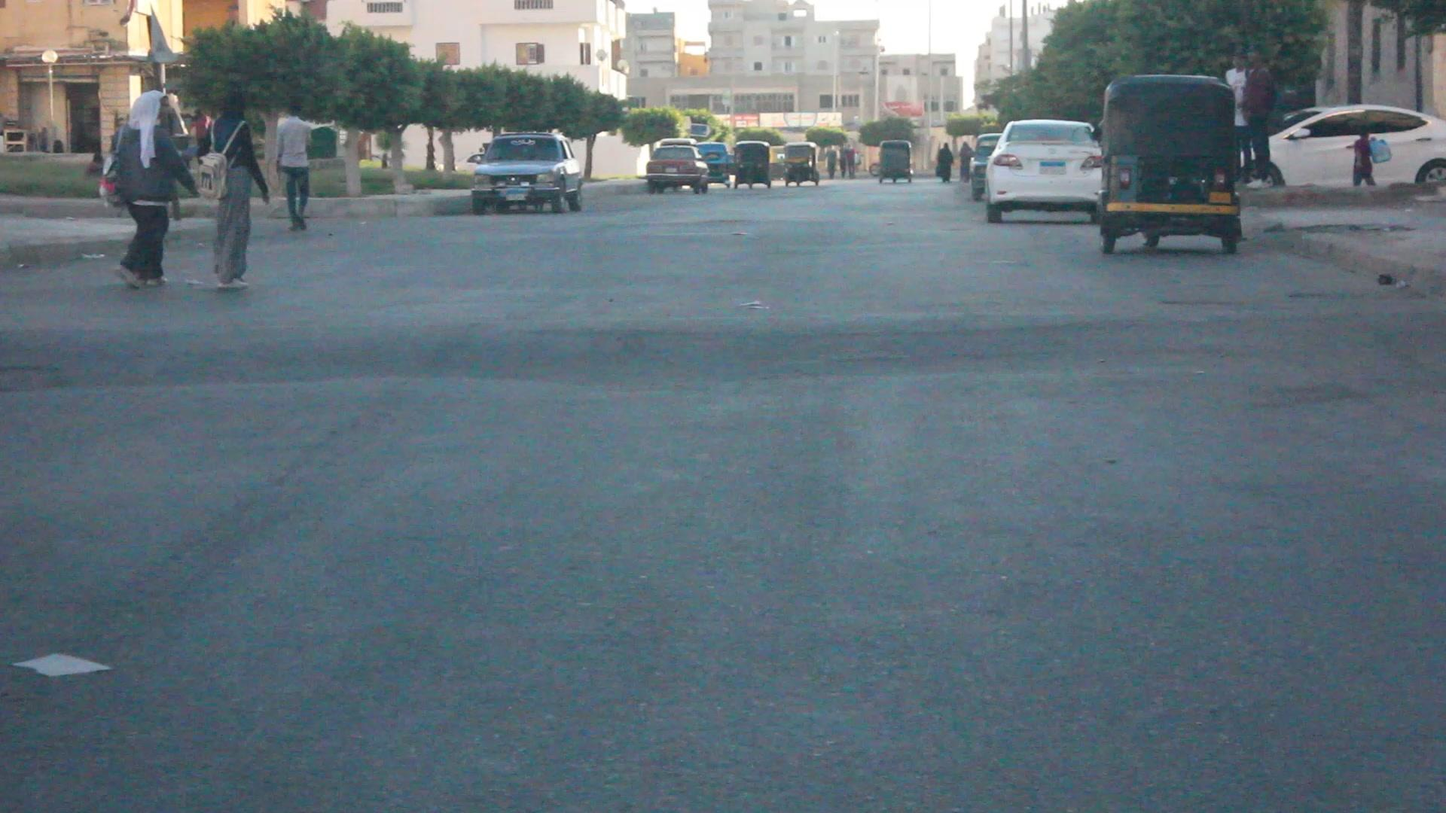Bump: (2, 305, 1446, 376)
